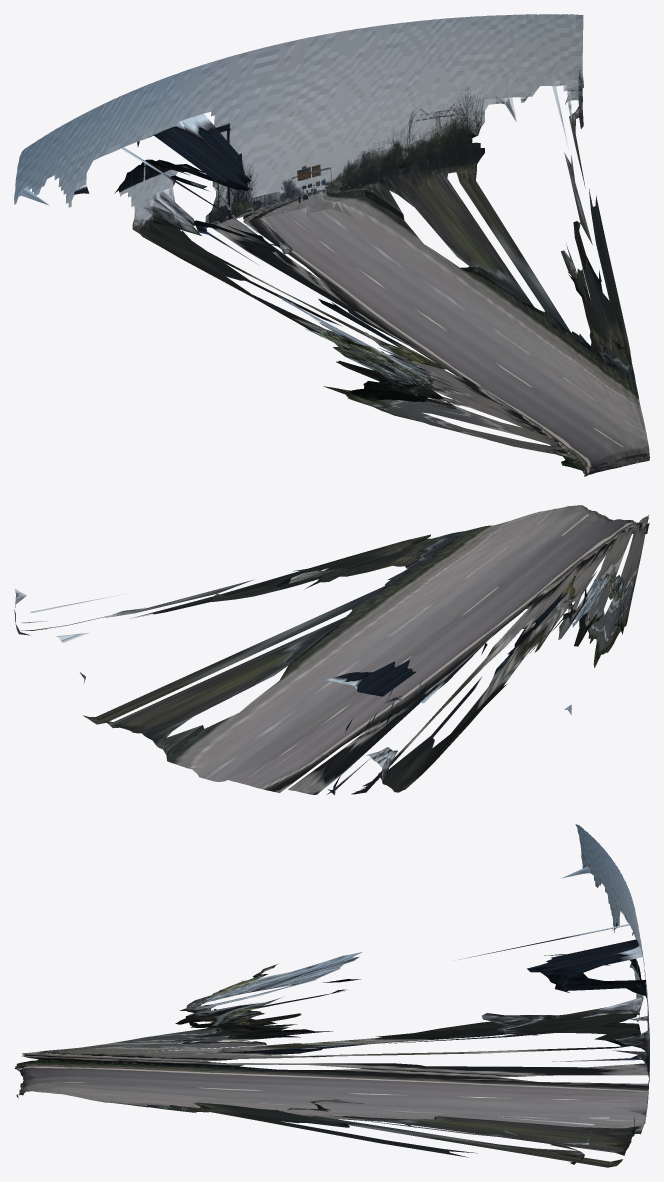
3 views of the same model, one above another, from view 1: azimuth 30°, elevation 25°; view 2: azimuth 150°, elevation 25°; view 3: azimuth 270°, elevation 25° (orthographic). The views are drawn at different scales.
Parts seen in each view (by area): view 1: defaultobject; view 2: defaultobject; view 3: defaultobject.
Part boxes in pixels (bbox=[...]): defaultobject: bbox=[14, 14, 649, 476]; defaultobject: bbox=[14, 505, 649, 795]; defaultobject: bbox=[14, 824, 649, 1167].
Bounding box in the file's own units: 40.97 × 12.46 × 44.62.
Materials: 1 (1 with a texture image).
